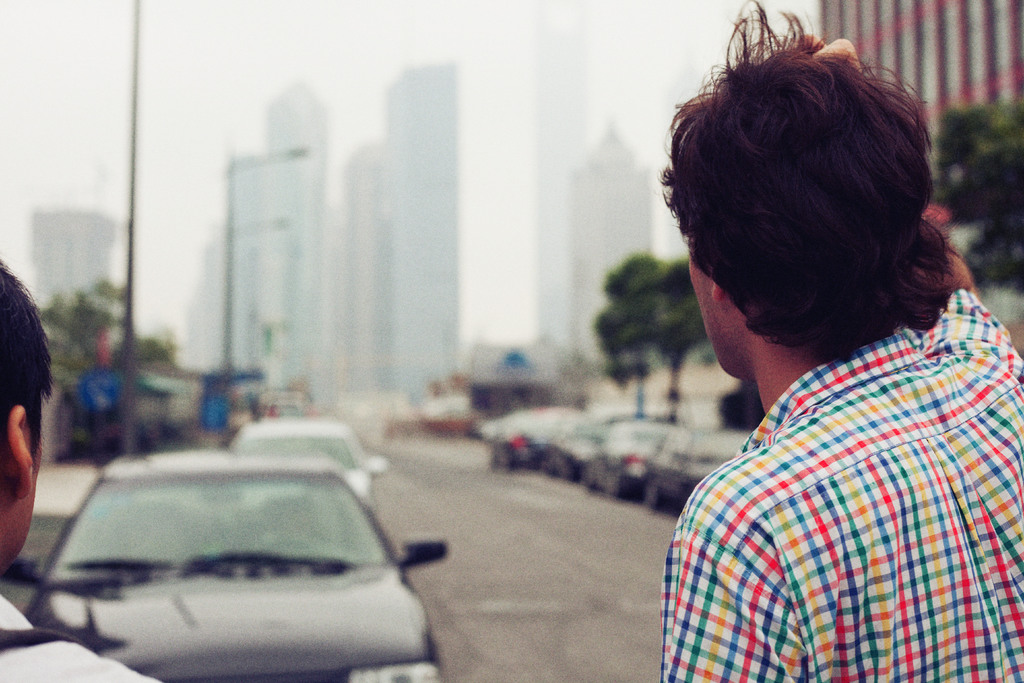Car: (19, 429, 451, 672), (477, 401, 744, 516), (231, 413, 390, 492)
